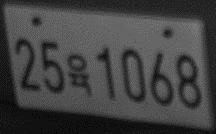0: (120, 48, 146, 102)
1: (94, 46, 119, 101)
2: (13, 37, 41, 93)
5: (39, 39, 65, 93)
6: (149, 52, 175, 106)
8: (174, 53, 202, 108)
육: (66, 54, 92, 96)
